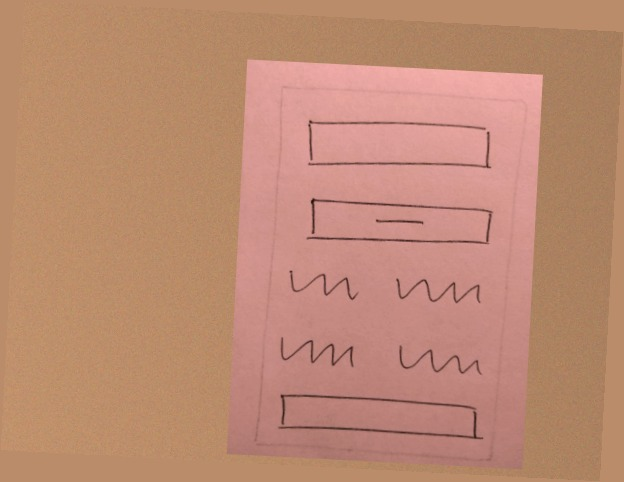button: (300, 189, 499, 257)
text: (392, 338, 488, 389), (271, 328, 363, 375), (388, 269, 486, 312), (285, 263, 364, 310)
text_input: (301, 110, 499, 181), (272, 389, 490, 448)
